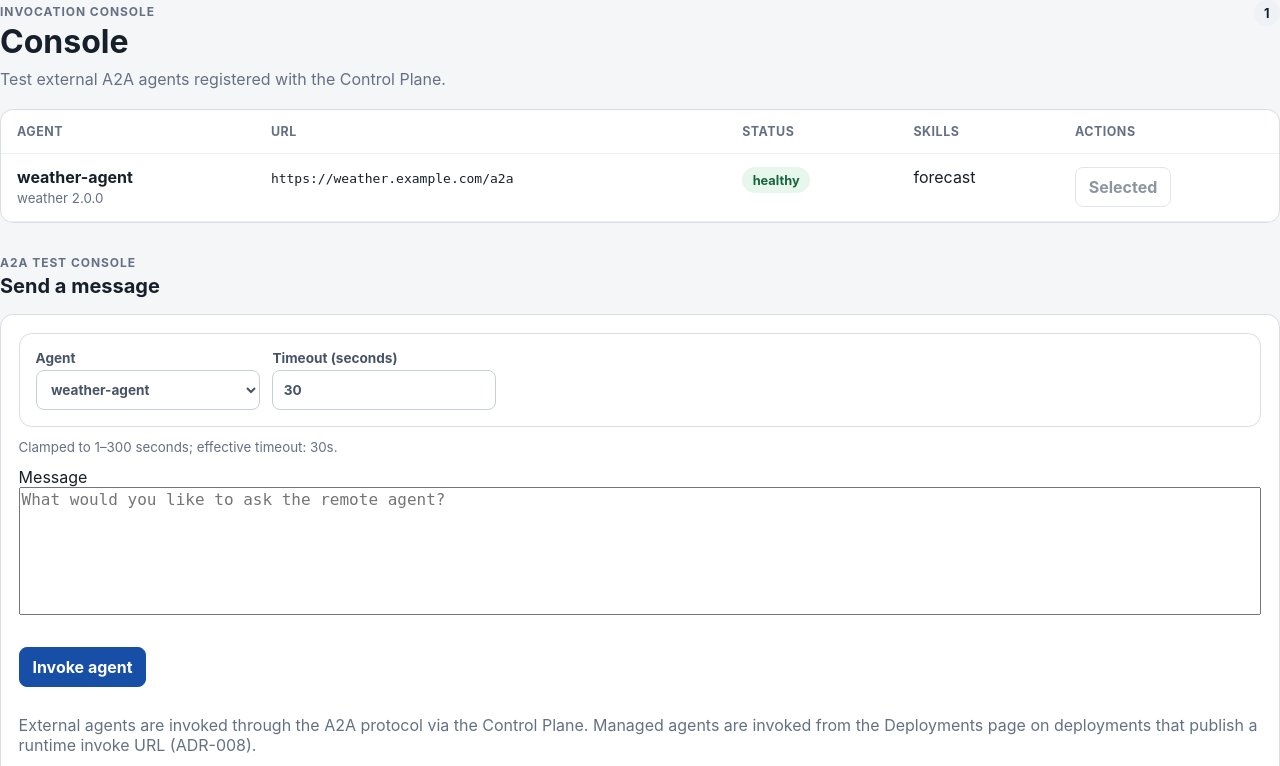
Test: InvocationPage › surfaces remote invocation failures
Type "hello" into the text box labelled "Message" at point(640, 551), box x1=19 y1=487 x2=1261 y2=615
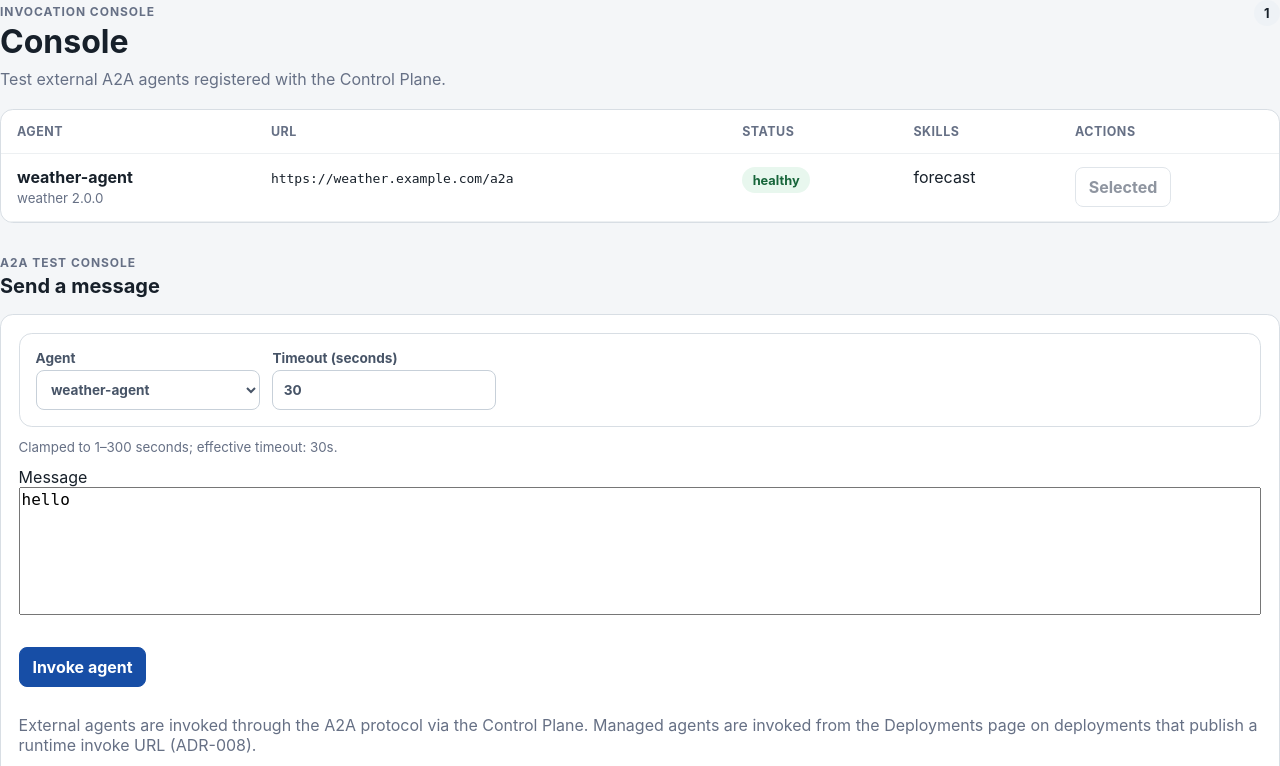
Click the button "Invoke agent" at point(83, 667), box x1=19 y1=647 x2=146 y2=687
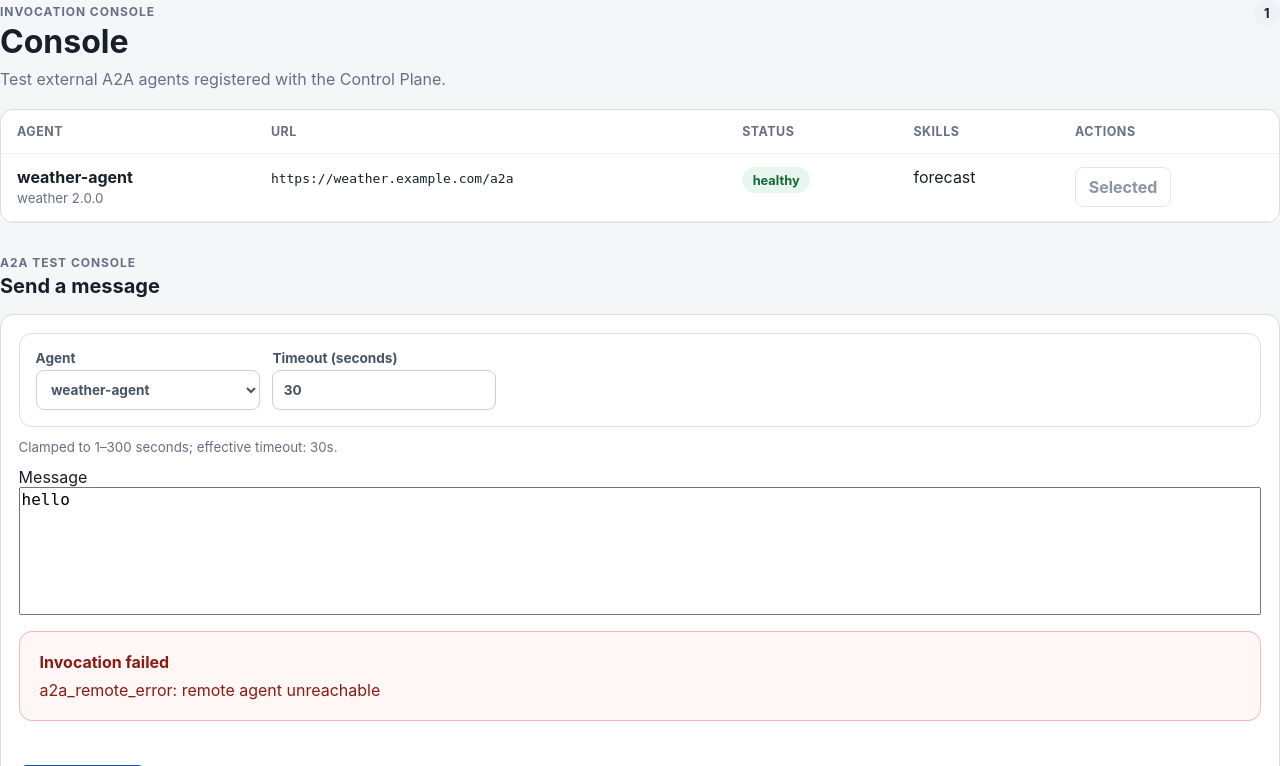
Now the text "a2a_remote_error: remote agent unreachable" is shown, box x1=40 y1=680 x2=380 y2=700
